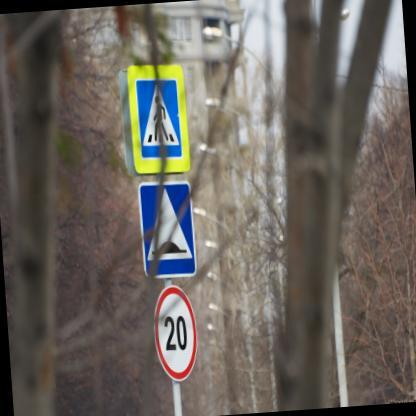obstructed_road_sign: (120, 66, 189, 174), (139, 181, 197, 279), (155, 285, 197, 381)
